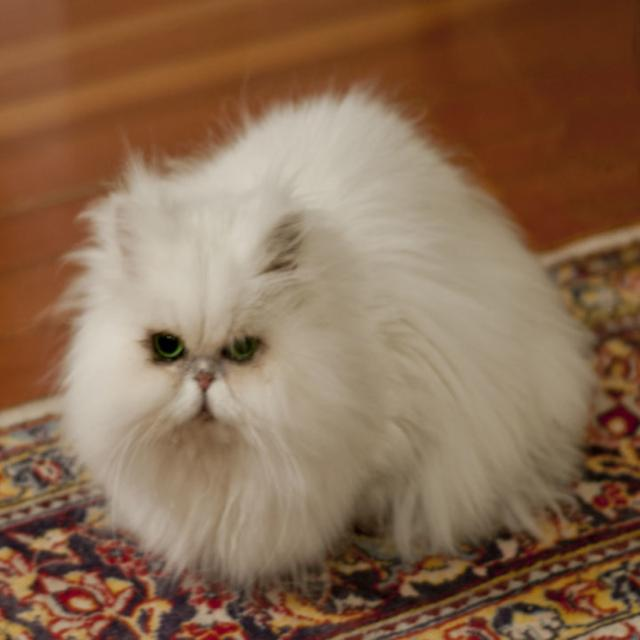Cat: (40, 51, 599, 574)
